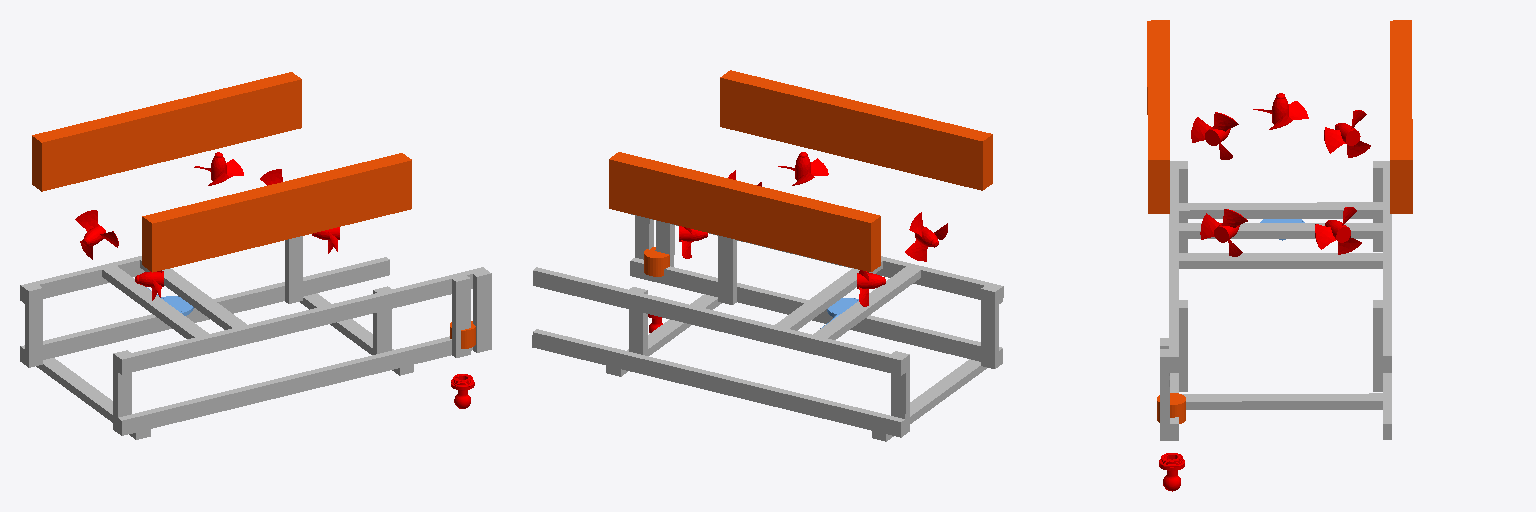
The robot description file, URDF, robot "falcon_bravo7":
<?xml version="1.0" encoding="utf-8"?>
<robot name="falcon_bravo7">

                                <material name="green2">
                                        <color rgba="0.235 0.702 0.443 1"/>
                                </material>

                                <material name="blue">
                                        <color rgba="0.263 0.733 0.984 1"/>
                                </material>

                                <material name="lavender">
                                        <color rgba="0.5 0.733 0.984 1"/>
                                </material>

                                <material name="red">
                                        <color rgba="1 0 0 1"/>
                                </material>

                                <material name="trans_black">
                                        <color rgba="0.8 0.8 0.8 1"/>
                                </material>

                                <material name="orange">
                                        <color rgba="1 0.369 0.047 1"/>
                                </material>

                                <material name="bravo_black">
                                        <color rgba="0.3 0.3 0.3 0.7"/>
                                </material>

                                <material name="bravo_jaws_black">
                                        <color rgba="0.3 0.3 0.3 1"/>
                                </material>   
            <!--ROV-->
<link name="world"/>     

            <link name="mobile_base">
                    <visual>
                            <geometry>
                                <mesh filename="package://uvm_description/meshes/falcon_frame.obj" scale="0.333 0.333 0.333"/>
                            </geometry>
                    </visual>
            </link>

            <link name="chassis">
                    <visual>
                            <geometry>
                                <mesh filename="package://uvm_description/meshes/chassis.STL" scale="0.001 0.001 0.001"/>
                            </geometry>
                            <material name="trans_black"/>
                    </visual>
            </link>
                    
                    <joint name="falcon2chassis" type="fixed">
                        <parent link="mobile_base"/>
                        <child link="chassis"/>
                        <origin rpy="-1.57 3.14  0" xyz="0.295 -0.73 -0.275"/>
                    </joint>
            
            <link name="floaterR">
                    <visual>
                            <geometry>
                                <mesh filename="package://uvm_description/meshes/floater.STL" scale="0.001 0.001 0.001"/>
                            </geometry>
                            <material name="orange"/>
                    </visual>
            </link>
                    <joint name="falcon2floaterR" type="fixed">
                        <parent link="mobile_base"/>
                        <child link="floaterR"/>
                        <origin rpy="-1.57 0 -1.57" xyz="0.29 0.45 0.45"/>
                    </joint>

            <link name="floaterL">
                    <visual>
                            <geometry>
                                <mesh filename="package://uvm_description/meshes/floater.STL" scale="0.001 0.001 0.001"/>
                            </geometry>
                            <material name="orange"/>
                    </visual>
            </link>
                    <joint name="falcon2floaterL" type="fixed">
                        <parent link="mobile_base"/>
                        <child link="floaterL"/>
                        <origin rpy="-1.57 0 -1.57" xyz="-0.365 0.45 0.45"/>
                    </joint>
            
            <link name="DVL">
                <visual>
                        <geometry>
                            <mesh filename="package://uvm_description/meshes/dvl_a125.stl" scale="0.001 0.001 0.001"/>
                        </geometry>
                        <material name="lavender"/>
                </visual>
            </link>
                    <joint name="falcon2dvl" type="fixed">
                        <parent link="mobile_base"/>
                        <child link="DVL"/>
                        <origin rpy="1.57 0 -1.570" xyz="0 0.17 -0.07"/>
                    </joint>
            
            <!--PROPELLERS-->
            <link name="Z_propeller">
                    <visual>
                            <geometry>
                                <mesh filename="package://uvm_description/meshes/propeller.stl" scale="0.85 0.85 0.85"/>
                            </geometry>
                            <material name="red"/>
                    </visual>
            </link>
            
            <link name="1_propeller">
                    <visual>
                            <geometry>
                                <mesh filename="package://uvm_description/meshes/propeller.stl" scale="0.85 0.85 0.85"/>
                            </geometry>
                            <material name="red"/>
                    </visual>
            </link>
            
            <link name="2_propeller">
                    <visual>
                            <geometry>
                                <mesh filename="package://uvm_description/meshes/propeller.stl" scale="0.85 0.85 0.85"/>
                            </geometry>
                            <material name="red"/>
                    </visual>
            </link>
            
            <link name="3_propeller">
                    <visual>
                            <geometry>
                                <mesh filename="package://uvm_description/meshes/propeller.stl" scale="0.85 0.85 0.85"/>
                            </geometry>
                            <material name="red"/>
                    </visual>
            </link>
            
            <link name="4_propeller">
                    <visual>
                            <geometry>
                                <mesh filename="package://uvm_description/meshes/propeller.stl" scale="0.85 0.85 0.85"/>
                            </geometry>
                            <material name="red"/>
                    </visual>
            </link>
                    
                    <joint name="z_propeller_joint" type="fixed">
                        <parent link="mobile_base"/>
                        <child link="Z_propeller"/>
                        <axis xyz="1 0 0"/>
                        <origin rpy="0.0 1.57 0" xyz="-0.005 0.015 0.35"/>
                    </joint>
                    
                    <joint name="4_propeller_joint" type="fixed">
                        <parent link="mobile_base"/>
                        <child link="4_propeller"/>
                        <axis xyz="1 0 0"/>
                        <origin rpy="0.0 0.0 -2.0944" xyz="-0.19 0.31 0.165"/>
                    </joint>
                    
                    <joint name="3_propeller_joint" type="fixed">
                        <parent link="mobile_base"/>
                        <child link="3_propeller"/>
                        <axis xyz="1 0 0"/>
                        <origin rpy="0.0 0.0 -1.0472" xyz="0.19 0.31 0.165"/>
                    </joint>
                    
                    <joint name="2_propeller_joint" type="fixed">
                        <parent link="mobile_base"/>
                        <child link="2_propeller"/>
                        <axis xyz="1 0 0"/>
                        <origin rpy="0.0 0.0 -1.0472" xyz="0.165 -0.307 0.165"/>
                    </joint>
                                        
                    <joint name="1_propeller_joint" type="fixed">
                        <parent link="mobile_base"/>
                        <child link="1_propeller"/>
                        <axis xyz="1 0 0"/>
                        <origin rpy="0.0 0.0 -2.094395327" xyz="-0.165 -0.307 0.165"/>
                    </joint>


            <link name="x_link"/>
            <link name="y_link"/>
            <link name="z_link"/>

                    <joint name="X" type="prismatic">
                        <parent link="world"/>
                        <child link="x_link"/>
                        <limit effort="1000.0" lower="-40.0" upper="40.0" velocity="10"/>
                        <origin rpy="0 0 0" xyz="0 0 0"/>
                        <axis xyz="1 0 0"/>
                    </joint>

                    <joint name="Y" type="prismatic">
                        <parent link="x_link"/>
                        <child link="y_link"/>
                        <limit effort="1000.0" lower="-40.0" upper="40.0" velocity="10"/>
                        <origin rpy="0 0 0" xyz="0 0 0"/>
                        <axis xyz="0 1 0"/>
                    </joint>

                    <joint name="Z" type="prismatic">
                        <parent link="y_link"/>
                        <child link="z_link"/>
                        <limit effort="1000.0" lower="-40.0" upper="40.0" velocity="10"/>
                        <origin rpy="0 0 0" xyz="0 0 0"/>
                        <axis xyz="0 0 1"/>
                    </joint>
                    
                    <joint name="Yaw" type="revolute">
                        <parent link="z_link"/>
                        <child link="mobile_base"/>
                        <origin rpy="0 0.0 1.570796326" xyz="0 0 0"/>
                        <axis xyz="0 0 1"/>
                        <limit effort="10.0" lower="-8.0" upper="8.0" velocity="5"/>
                    </joint>

            <!--BRAVO ARM-->                    

            <link name="link1">
                <visual>
                    <geometry>
                        <mesh filename="package://uvm_description/meshes/RS2-266.stl"/>
                    </geometry>
                    <material name="blue"/>
                </visual>
            </link>

                    <joint name="base_fixed" type="fixed">
                        <parent link="mobile_base"/>
                        <child link="link1"/>
                        <origin rpy="0 0 3.14" xyz="-0.325 -0.65 -0.09"/>
                    </joint>

            <link name="link2">
                <visual>
                    <geometry>
                        <mesh filename="package://uvm_description/meshes/RS2-217.stl"/>
                    </geometry>
                    <material name="green2"/>
                    </visual>
            </link>

                    <joint name="joint1" type="revolute">
                        <parent link="link1"/>
                        <child link="link2"/>
                        <origin rpy="0 0 0" xyz="0.0665 0 0.078"/>
                        <axis xyz="0 0 -1"/>
                        <limit effort="9.0" lower="0.0" upper="6.3" velocity="0.5"/>
                    </joint>

            <link name="link3">
                <visual>
                    <geometry>
                        <mesh filename="package://uvm_description/meshes/RS2-250-212-214.stl"/>
                    </geometry>
                    <material name="blue"/>
                </visual>
            </link>

                    <joint name="joint2" type="revolute">
                        <parent link="link2"/>
                        <child link="link3"/>
                        <origin rpy="0 0 0" xyz="-0.046 0 0.0674"/>
                        <axis xyz="0 1 0"/>
                        <limit effort="9.0" lower="0.0" upper="3.5" velocity="0.5"/>
                    </joint>

            <link name="link4">
                <visual>
                    <geometry>
                        <mesh filename="package://uvm_description/meshes/RS2-268.stl"/>
                    </geometry>
                    <material name="green2"/>
                </visual>
            </link>

                    <joint name="joint3" type="revolute">
                        <parent link="link3"/>
                        <child link="link4"/>
                        <origin rpy="0 0 0" xyz="-0.0052 0 -0.29055"/>
                        <axis xyz="0 1 0"/>
                        <limit effort="9.0" lower="0.0" upper="3.5" velocity="0.5"/>
                    </joint>

            <link name="link5">
                <visual>
                    <geometry>
                        <mesh filename="package://uvm_description/meshes/RS2-214.stl"/>
                    </geometry>
                    <material name="blue"/>
                </visual>
            </link>

                    <joint name="joint4" type="revolute">
                        <parent link="link4"/>
                        <child link="link5"/>
                        <origin rpy="0 0 0" xyz="0.0408 0 0.09695"/>
                        <axis xyz="0 0 -1"/>
                        <limit effort="9.0" lower="0.0" upper="6.3" velocity="0.5"/>
                    </joint>

            <link name="link6">
                <visual>
                    <geometry>
                        <mesh filename="package://uvm_description/meshes/RS2-161.stl"/>
                    </geometry>
                    <material name="green2"/>
                </visual>
            </link>

                    <joint name="joint5" type="revolute">
                        <parent link="link5"/>
                        <child link="link6"/>
                        <origin rpy="0 0 0" xyz="-0.0408 0 0.063"/>
                        <axis xyz="0 1 0"/>
                        <limit effort="9.0" lower="0.0" upper="3.5" velocity="0.5"/>
                    </joint>

            <link name="link7">
                <visual>
                    <geometry>
                        <mesh filename="package://uvm_description/meshes/RS2-180.stl"/>
                    </geometry>
                    <material name="blue"/>
                </visual>
            </link>

            <link name="force_torque_sensor">
                <visual>
                    <geometry>
                        <cylinder length="0.06" radius="0.04"/>
                    </geometry>
                    <material name="orange"/>
                </visual>
            </link>

            <link name="end_effector_ball">
                <visual>
                    <geometry>
                        <mesh filename="package://uvm_description/meshes/EndEffector_85mm.STL" scale="0.001 0.001 0.001"/>
                    </geometry>
                    <material name="red"/>
                </visual>
            </link>
                    <joint name="FT_fixed_1" type="fixed">
                        <origin rpy="0 0 1.57" xyz=" 0 0 -0.03"/>
                        <parent link="link7"/>
                        <child link="force_torque_sensor"/>
                    </joint>

                    <joint name="joint6" type="revolute">
                        <parent link="link6"/>
                        <child link="link7"/>
                        <origin rpy="0 3.14159 0" xyz="-0.0408 0 -0.14863"/>
                        <axis xyz="0 0 -1"/>
                        <limit effort="9.0" lower="0.0" upper="6.3" velocity="0.5"/>
                    </joint>

                    <joint name="bravo_EE_joint" type="fixed">
                        <origin rpy="0 -1.57 0" xyz=" 0.045 -0.035 0.113"/>
                        <parent link="link7"/>
                        <child link="end_effector_ball"/>
                    </joint>     

                    <joint name="contact_point_joint" type="fixed">
                        <origin rpy="0 0 0" xyz="0 0 0.24"/>
                        <parent link="force_torque_sensor"/>
                        <child link="contact_point"/>
                    </joint>

            <!-- contact_point -->
            <link name="contact_point"/>

</robot>

--- Render facts (derived) ---
3 views of the same robot in one strip: view 1: azimuth 30°, elevation 25°; view 2: azimuth 150°, elevation 25°; view 3: azimuth 270°, elevation 25° (orthographic).
Robot: falcon_bravo7 — 24 links, 23 joints (7 revolute, 3 prismatic, 13 fixed); root link world; default pose: every joint at zero.
Links seen in each view (by area): view 1: chassis, floaterR, floaterL, 3_propeller, Z_propeller, end_effector_ball; view 2: chassis, floaterL, floaterR, 4_propeller, Z_propeller, force_torque_sensor, 3_propeller; view 3: chassis, floaterR, floaterL, 3_propeller, 2_propeller, 4_propeller, 1_propeller, Z_propeller, end_effector_ball.
Link boxes in pixels (bbox=[...]): chassis: bbox=[20, 236, 491, 439]; floaterR: bbox=[32, 72, 301, 191]; floaterL: bbox=[142, 153, 411, 272]; 3_propeller: bbox=[75, 210, 118, 259]; Z_propeller: bbox=[194, 152, 243, 185]; end_effector_ball: bbox=[451, 374, 474, 408]; chassis: bbox=[532, 214, 1003, 441]; floaterL: bbox=[720, 70, 992, 190]; floaterR: bbox=[609, 152, 880, 271]; 4_propeller: bbox=[905, 212, 947, 261]; Z_propeller: bbox=[778, 152, 828, 185]; force_torque_sensor: bbox=[644, 247, 669, 276]; 3_propeller: bbox=[857, 270, 885, 306]; chassis: bbox=[1160, 161, 1391, 440]; floaterR: bbox=[1390, 20, 1412, 213]; floaterL: bbox=[1147, 20, 1169, 213]; 3_propeller: bbox=[1324, 110, 1370, 157]; 2_propeller: bbox=[1315, 207, 1361, 254]; 4_propeller: bbox=[1191, 112, 1238, 159]; 1_propeller: bbox=[1200, 209, 1247, 256]; Z_propeller: bbox=[1253, 93, 1308, 129]; end_effector_ball: bbox=[1159, 453, 1184, 491].
Size in the robot's own frame: 1.25 by 0.7158 by 0.8871 metres.
10 mesh visuals loaded from 13 distinct referenced files (5 binary STL); not drawn: 8 (reference not matched to a file when rendering).
